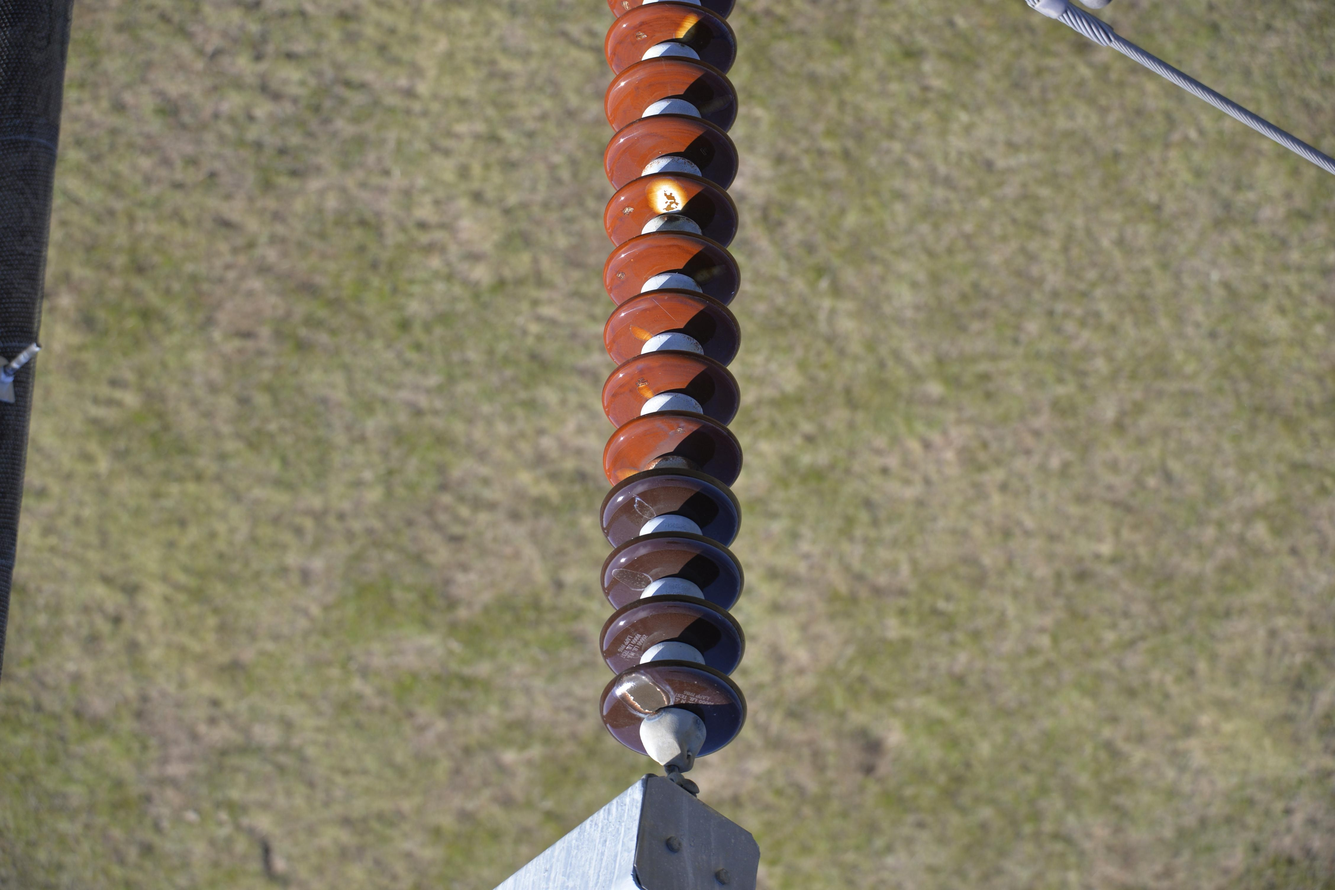Flashover: (617, 671, 673, 722), (645, 174, 687, 213), (612, 567, 653, 592), (698, 90, 734, 117), (675, 12, 700, 42), (695, 264, 726, 285), (633, 494, 657, 519), (627, 323, 654, 342), (636, 379, 654, 401), (613, 468, 641, 482)
hammer: (1031, 0, 1115, 54)
insulator: (596, 0, 749, 772)
